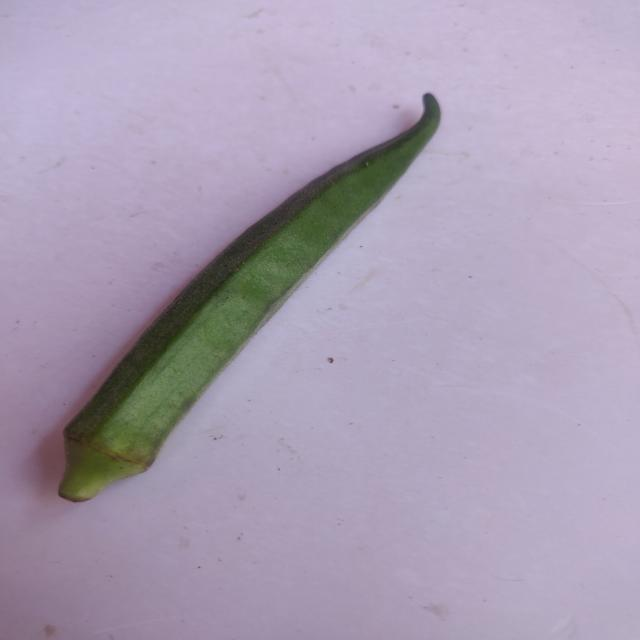Ladies Finger: (58, 93, 440, 502)
